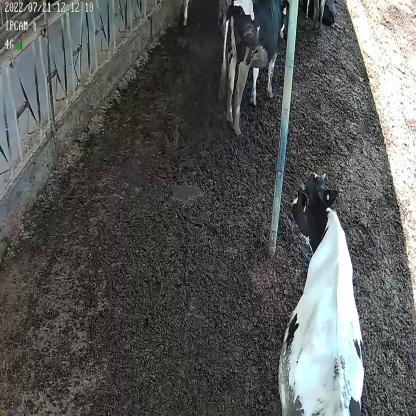cow: (278, 167, 365, 416), (218, 0, 288, 138)
